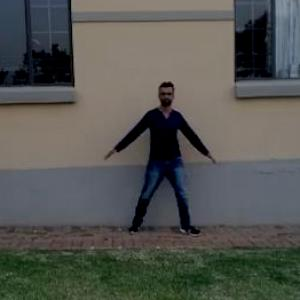land: (103, 84, 212, 250)
